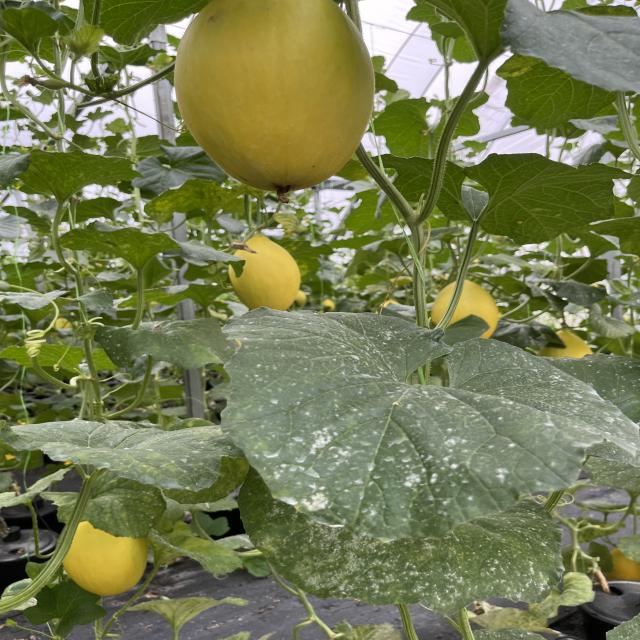downy mildew: (5, 412, 243, 494), (58, 221, 252, 277), (95, 311, 242, 376), (46, 472, 174, 538), (14, 145, 145, 198), (142, 178, 242, 223)
healthy: (364, 152, 635, 246), (417, 0, 640, 96), (370, 90, 490, 160), (85, 0, 206, 50), (0, 0, 72, 42)
powdery mildew: (215, 304, 640, 542), (234, 463, 565, 613)
